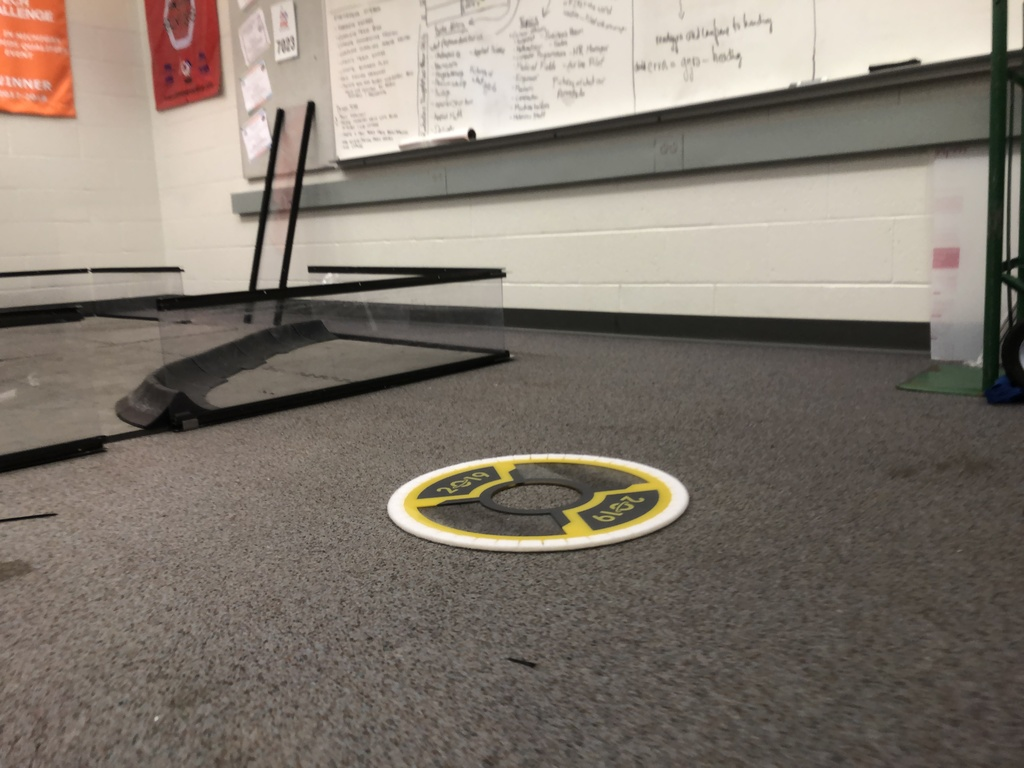hatch_panel: (367, 442, 705, 558)
